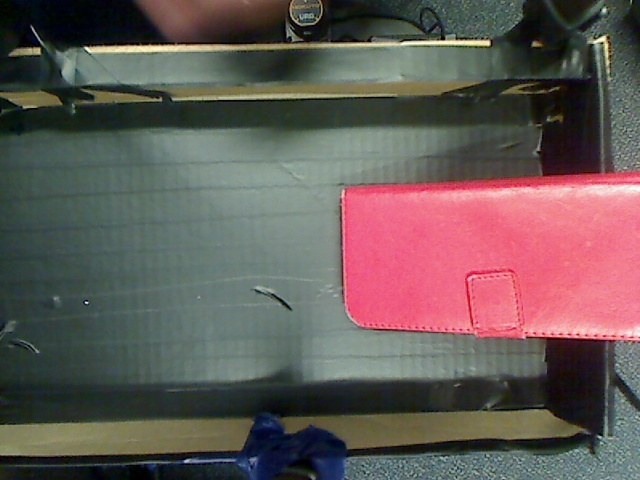phone: (327, 158, 640, 347)
